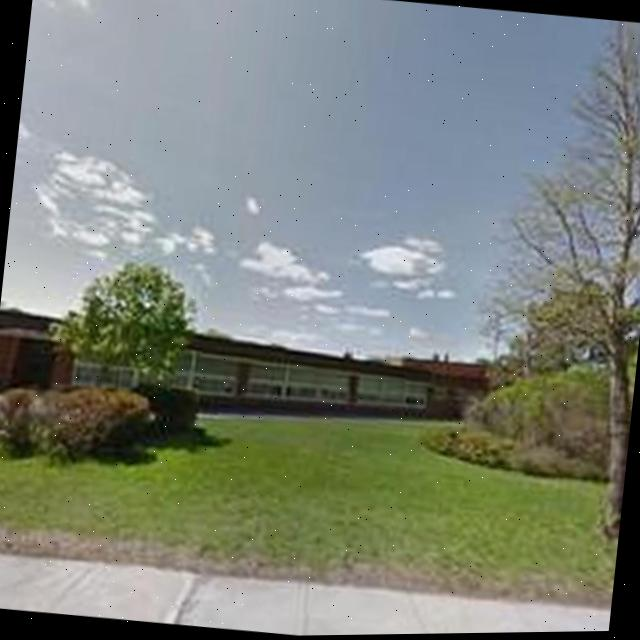building: (0, 295, 490, 438)
